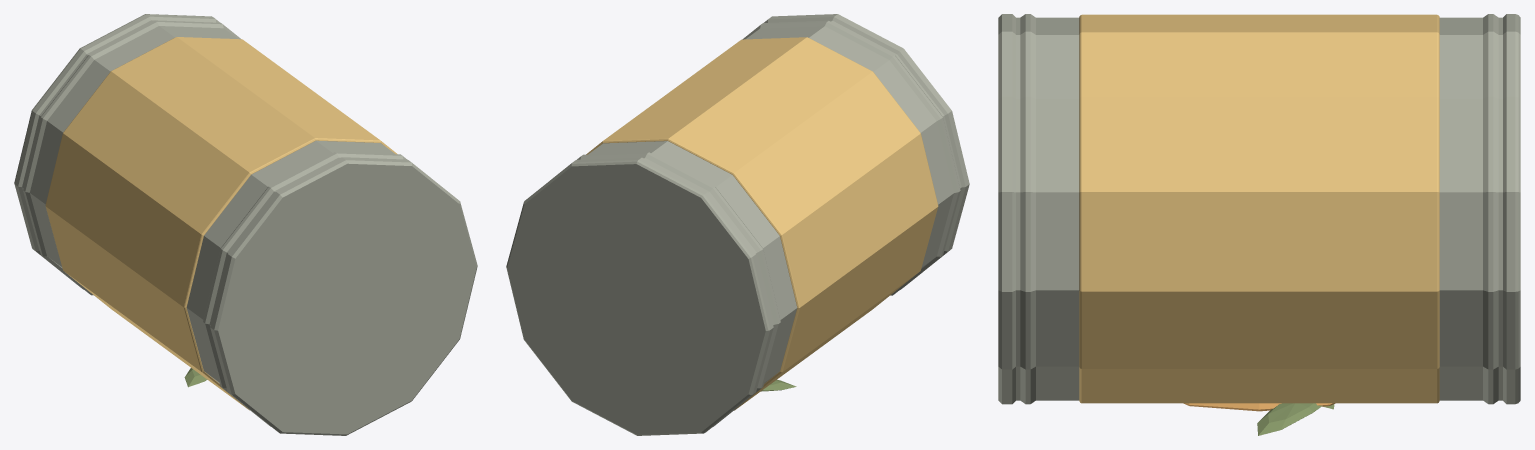
Rendered from canned_corn.glb.
3 renders of one model, left to right at view 1: azimuth 30°, elevation 25°; view 2: azimuth 150°, elevation 25°; view 3: azimuth 270°, elevation 25°, orthographic. The views are drawn at different scales.
Visible parts, largest first — view 1: canned_corn; view 2: canned_corn; view 3: canned_corn.
Boxes of the visible parts, left/top/right/bottom form: canned_corn: left=14, top=14, right=477, bottom=435; canned_corn: left=506, top=14, right=969, bottom=435; canned_corn: left=998, top=14, right=1520, bottom=435.
Size of the model in its own units: 0.075 by 0.0785 by 0.1.
